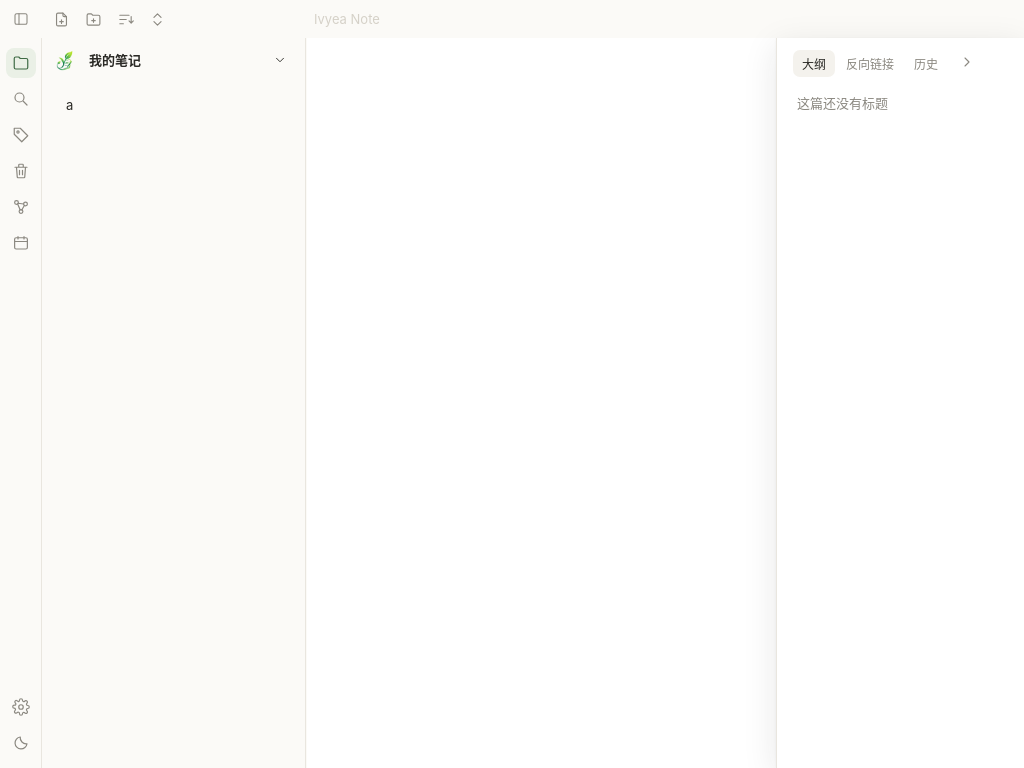
侧栏搜索（E7） › 搜不到时给明确反馈，不是空白
Click the button named "搜索" at (20, 99), box [6,84,36,114]
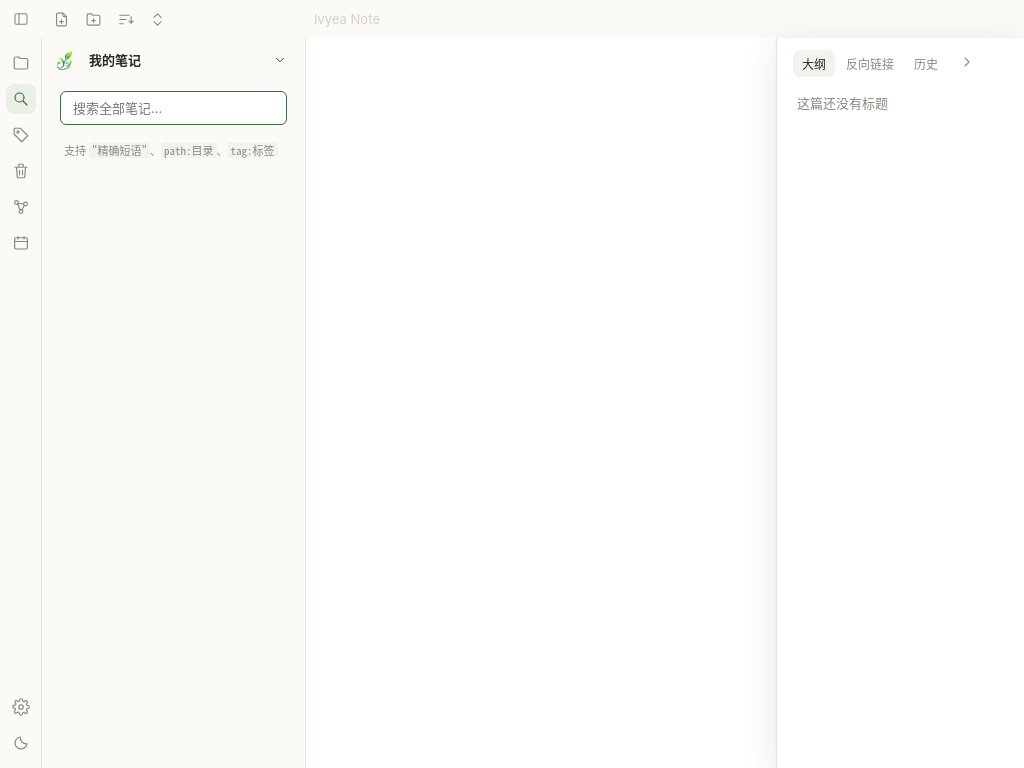
Type "一定搜不到的词" into the search field with placeholder "搜索全部笔记…" at (174, 108), box [60,91,287,125]
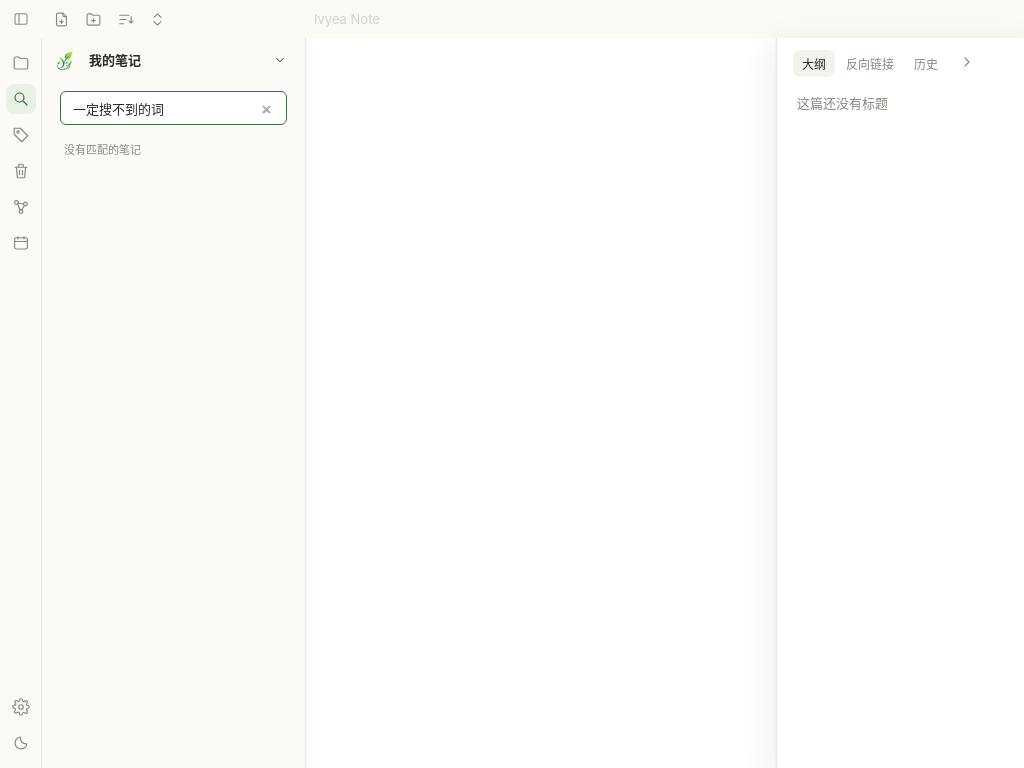
Now the text "没有匹配的笔记" is shown, box [64,143,141,157]
